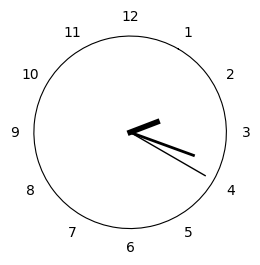12: (122, 8, 138, 23)
circle: (31, 36, 227, 229)
hours: (127, 118, 161, 135)
minutes: (137, 134, 195, 156)
seconds: (138, 137, 205, 176)
